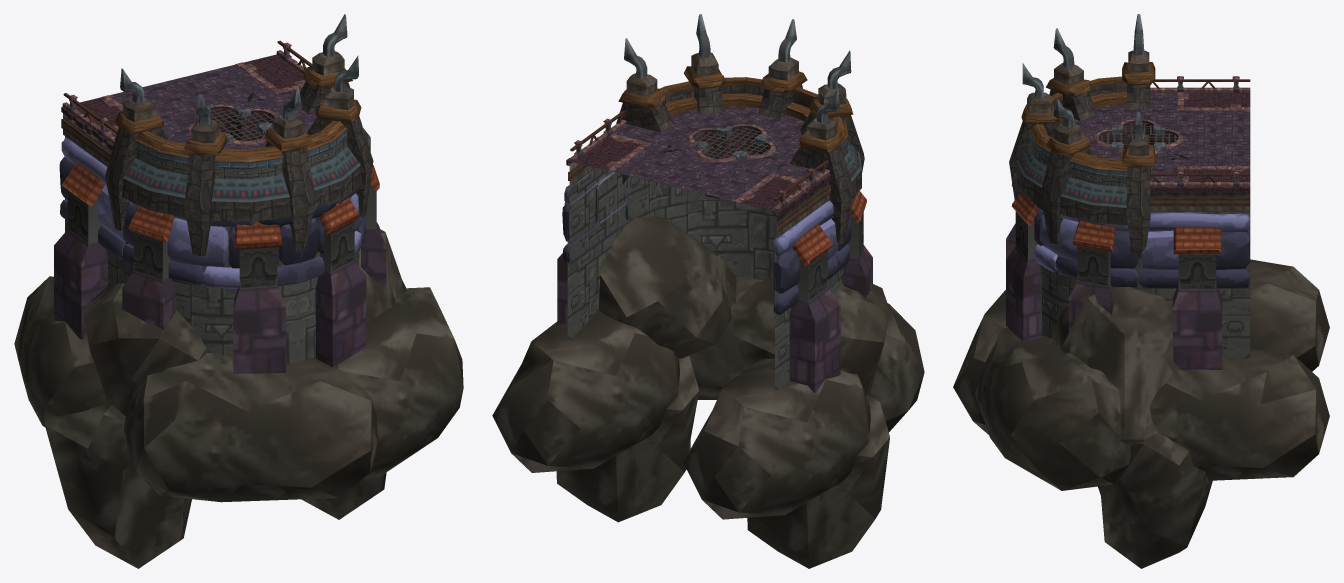
File: Hallway_Cap_16_A.fbx
3 renders of one model, left to right at view 1: azimuth 30°, elevation 25°; view 2: azimuth 150°, elevation 25°; view 3: azimuth 270°, elevation 25°, orthographic. The views are drawn at different scales.
Visible parts, largest first — view 1: Hallway_Cap_16_A; view 2: Hallway_Cap_16_A; view 3: Hallway_Cap_16_A.
Boxes of the visible parts, x1,y1,x2,y2 form: Hallway_Cap_16_A: (14, 14, 463, 568); Hallway_Cap_16_A: (492, 14, 924, 568); Hallway_Cap_16_A: (953, 14, 1329, 568).
Size of the model in its own units: 2657 by 3504 by 2702.
